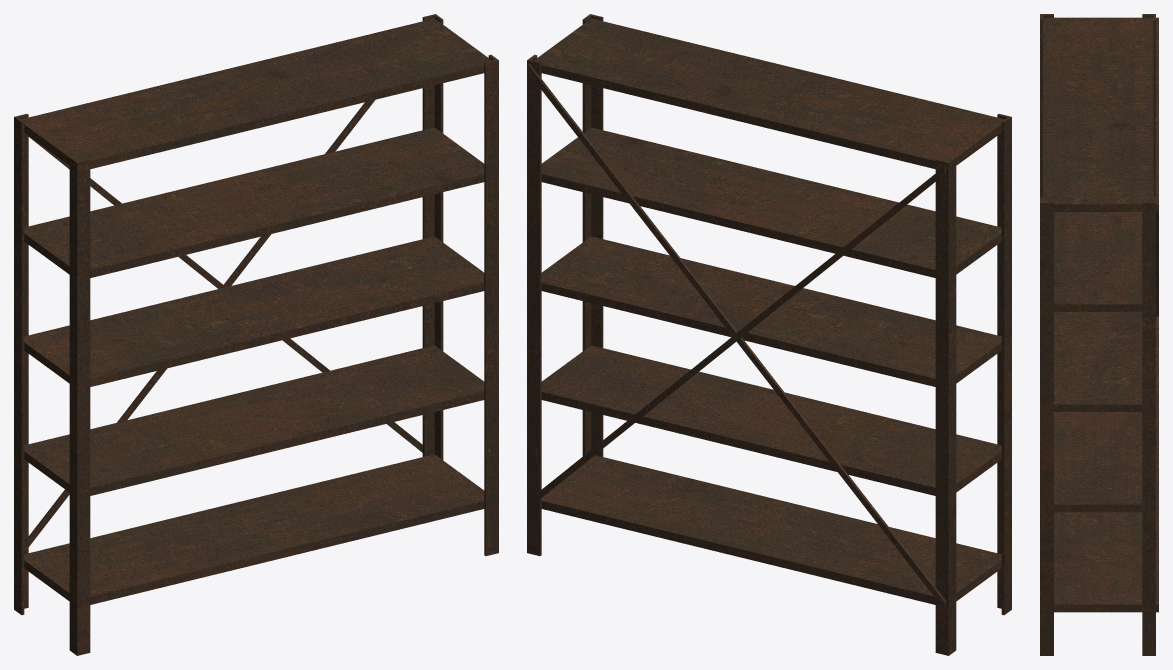
The model's file is shelf_mx_3.obj.
The picture shows the model from 3 angles, left to right: view 1: azimuth 30°, elevation 25°; view 2: azimuth 150°, elevation 25°; view 3: azimuth 270°, elevation 25°; orthographic projection. The views are drawn at different scales.
Parts seen in each view (by area): view 1: shelf_mx_3; view 2: shelf_mx_3; view 3: shelf_mx_3.
Boxes of the visible parts, x1,y1,x2,y2 form: shelf_mx_3: (14, 14, 498, 655); shelf_mx_3: (527, 14, 1011, 655); shelf_mx_3: (1040, 14, 1158, 655).
Bounding box in the file's own units: 1.62 × 1.81 × 0.43.
